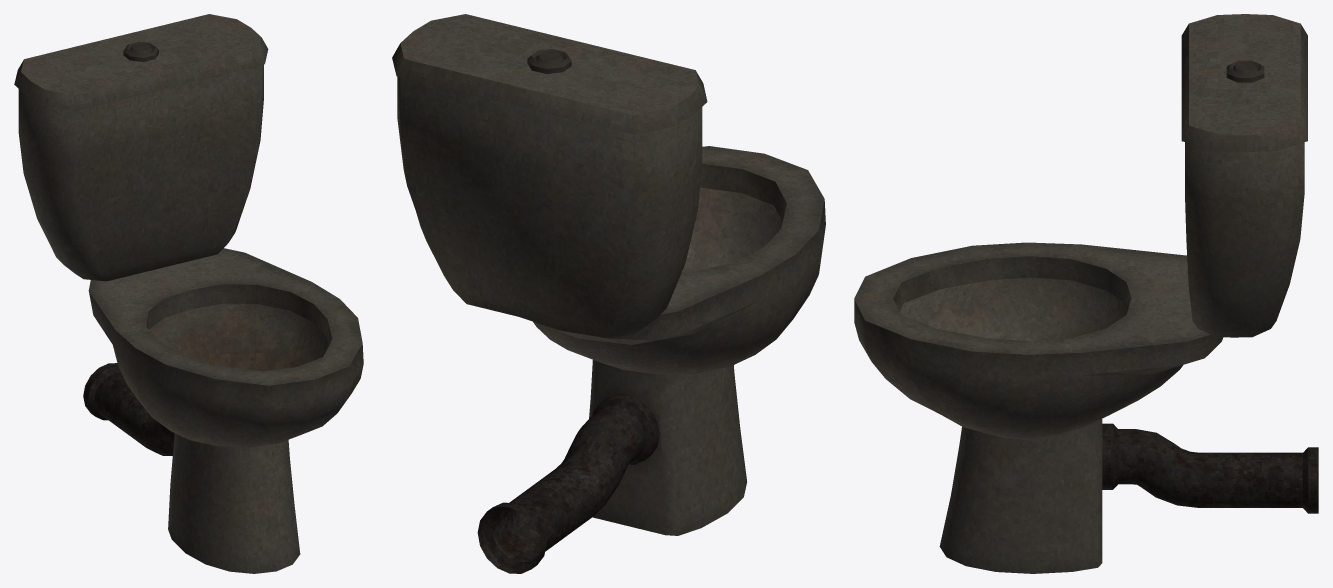
The model's file is toilet_mp_1.glb.
3 views of the same model, side by side, from view 1: azimuth 30°, elevation 25°; view 2: azimuth 150°, elevation 25°; view 3: azimuth 270°, elevation 25° (orthographic). The views are drawn at different scales.
Parts seen in each view (by area): view 1: toilet_mp_1; view 2: toilet_mp_1; view 3: toilet_mp_1.
Part boxes in pixels (x1,y1,x2,y2): toilet_mp_1: [14, 14, 363, 573]; toilet_mp_1: [392, 14, 825, 573]; toilet_mp_1: [854, 14, 1318, 573].
Bounding box in the file's own units: 0.5728 × 1.01 × 0.8822.
Materials: 1 (1 with a texture image).
